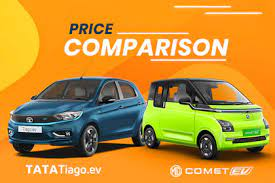Tiago: (5, 74, 151, 159)
